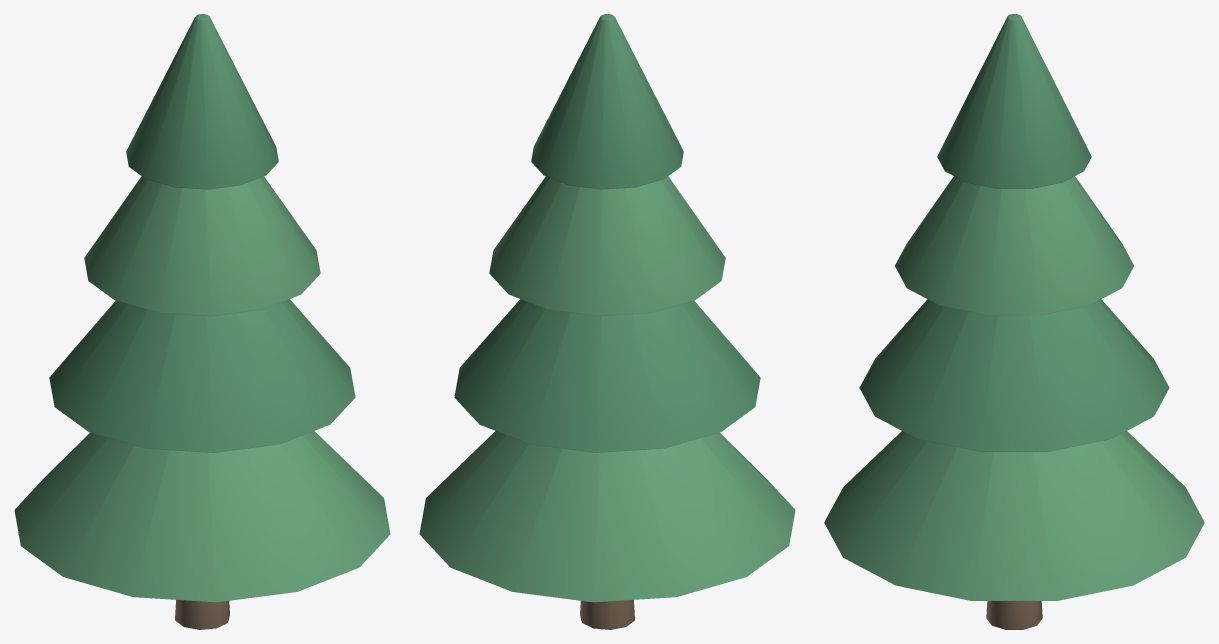
The model's file is th6_fichte.glb.
The picture shows the model from 3 angles, left to right: view 1: azimuth 30°, elevation 25°; view 2: azimuth 150°, elevation 25°; view 3: azimuth 270°, elevation 25°; orthographic projection.
Parts seen in each view (by area): view 1: Cone.001, Cone.002, Cone.003, Cone.004, Cone; view 2: Cone.001, Cone.002, Cone.003, Cone.004, Cone; view 3: Cone.001, Cone.002, Cone.003, Cone.004, Cone.
Boxes of the visible parts, x1,y1,x2,y2 form: Cone.001: (14,431,390,602); Cone.002: (49,299,355,452); Cone.003: (84,176,320,316); Cone.004: (126,14,278,189); Cone: (175,600,229,629); Cone.001: (419,431,795,602); Cone.002: (454,299,760,452); Cone.003: (489,176,725,316); Cone.004: (531,14,683,189); Cone: (580,600,634,629); Cone.001: (824,431,1204,600); Cone.002: (859,299,1169,451); Cone.003: (895,176,1133,315); Cone.004: (937,14,1091,188); Cone: (986,601,1042,629).
Bounding box in the file's own units: 2.62 × 4.7 × 2.69.
